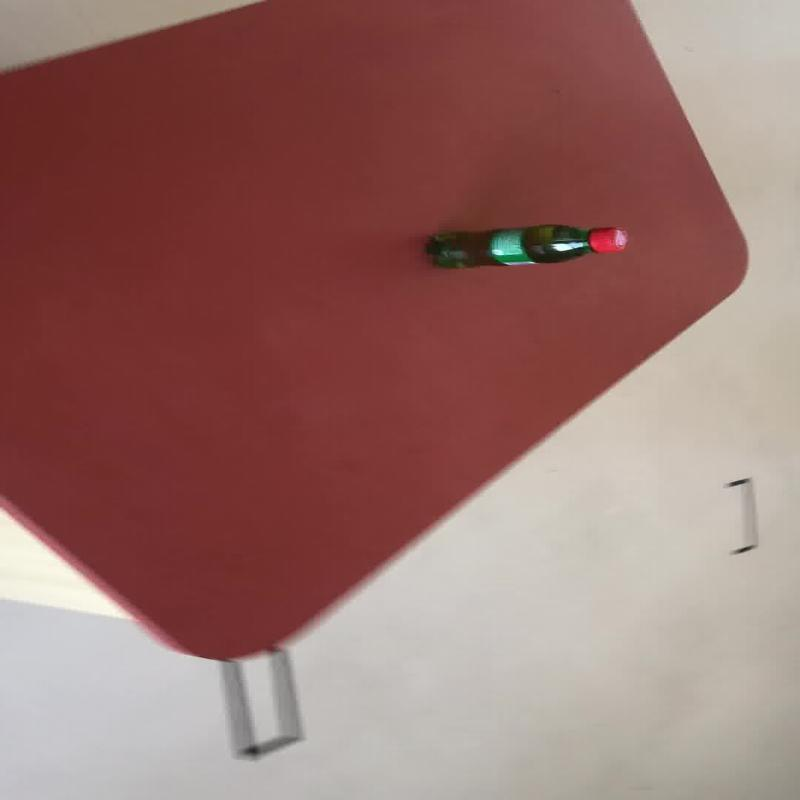guarana: (422, 222, 628, 269)
